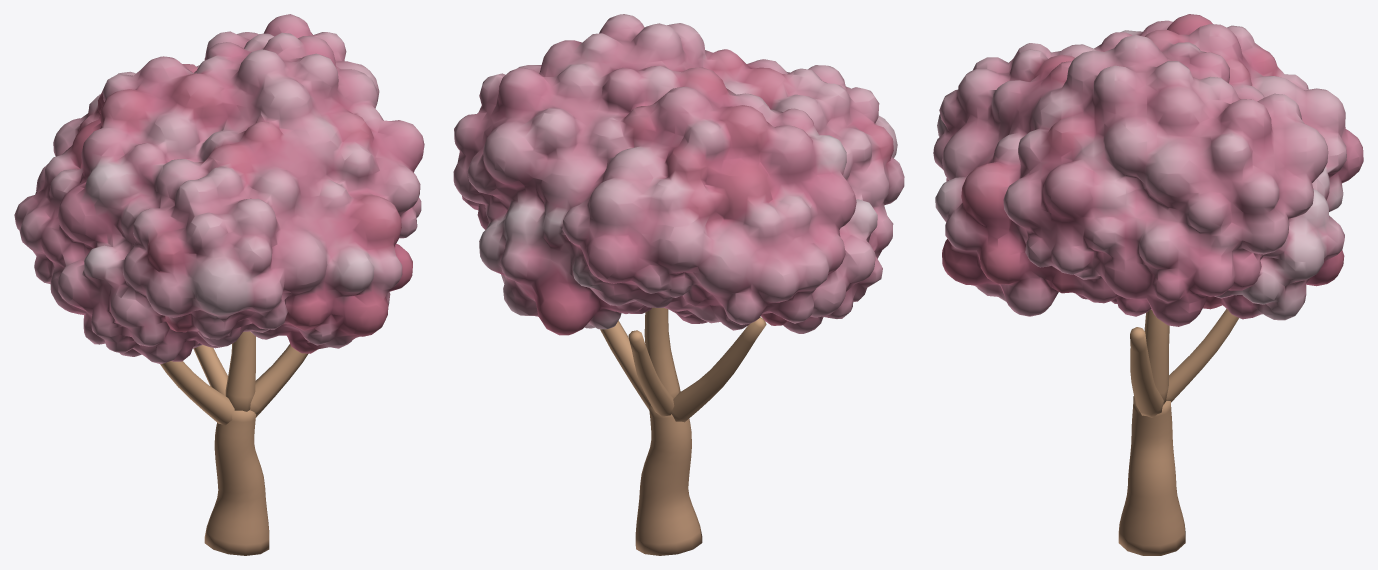
The model's file is blossom-tree-a.glb.
3 views of the same model, side by side, from view 1: azimuth 30°, elevation 25°; view 2: azimuth 150°, elevation 25°; view 3: azimuth 270°, elevation 25° (orthographic). The views are drawn at different scales.
Visible parts, largest first — view 1: blossom-tree-a; view 2: blossom-tree-a; view 3: blossom-tree-a.
Part boxes in pixels (<box>): blossom-tree-a: <box>14,14,424,555</box>; blossom-tree-a: <box>453,14,904,555</box>; blossom-tree-a: <box>933,14,1363,555</box>.
Size of the model in its own units: 3.79 by 5 by 3.79.
